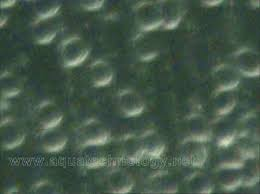Malaria: (59, 37, 87, 67), (208, 92, 241, 117), (183, 114, 213, 141), (176, 141, 208, 166), (114, 90, 144, 116), (214, 63, 240, 89), (81, 120, 108, 145), (35, 102, 61, 127), (236, 51, 260, 78), (90, 62, 113, 90), (187, 172, 215, 194), (39, 129, 67, 150), (136, 5, 160, 29), (125, 135, 145, 161)
